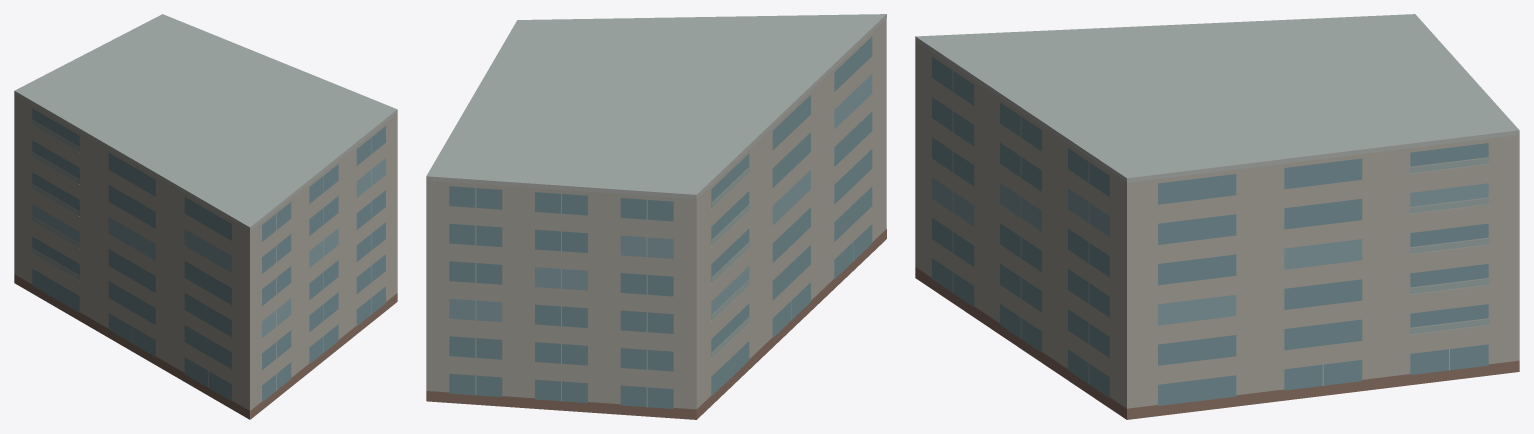
Rendered from survey-upis-33007129.glb.
3 views of the same model, side by side, from view 1: azimuth 30°, elevation 25°; view 2: azimuth 150°, elevation 25°; view 3: azimuth 270°, elevation 25° (orthographic). The views are drawn at different scales.
Visible parts, largest first — view 1: survey-upis-33007129.tmp; view 2: survey-upis-33007129.tmp; view 3: survey-upis-33007129.tmp.
Boxes of the visible parts, x1,y1,x2,y2 form: survey-upis-33007129.tmp: (14, 14, 397, 419); survey-upis-33007129.tmp: (426, 14, 886, 419); survey-upis-33007129.tmp: (915, 14, 1519, 419).
Bounding box in the file's own units: 18.53 × 12.7 × 28.8.
